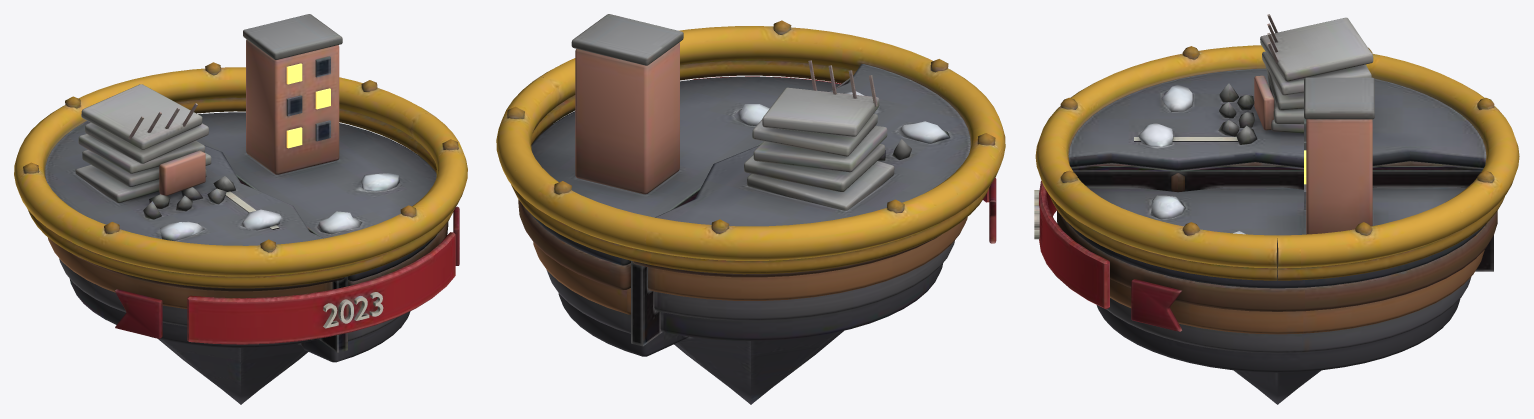
File: badge_kahramanmaras.glb
The picture shows the model from 3 angles, left to right: view 1: azimuth 30°, elevation 25°; view 2: azimuth 150°, elevation 25°; view 3: azimuth 270°, elevation 25°; orthographic projection. The views are drawn at different scales.
Parts seen in each view (by area): view 1: badge_kahramanmaras, badge_kahramanmaras_glow; view 2: badge_kahramanmaras; view 3: badge_kahramanmaras.
Part boxes in pixels (box(x1,y1,x2,y2)): badge_kahramanmaras: box(14, 14, 467, 404); badge_kahramanmaras_glow: box(286, 63, 330, 148); badge_kahramanmaras: box(496, 14, 1005, 404); badge_kahramanmaras: box(1034, 14, 1519, 404).
Size of the model in its own units: 2.19 by 1.76 by 2.2.
Materials: 2 (1 with a texture image).
